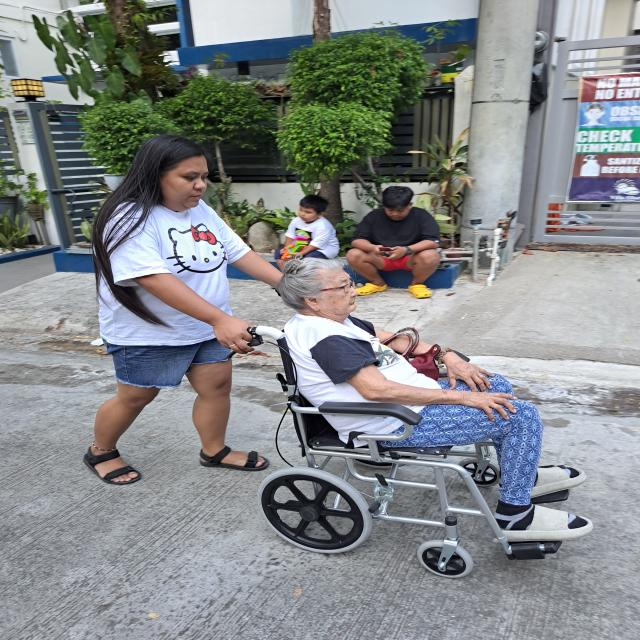wheelchairs: (240, 316, 583, 586)
